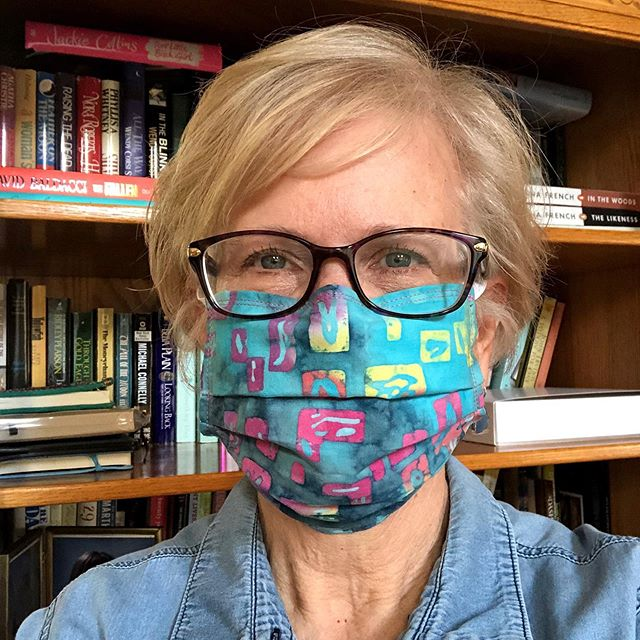homemade: (188, 289, 473, 527)
